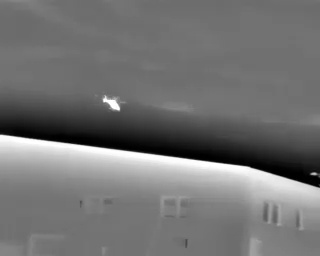HELICOPTER: (98, 91, 131, 118)
